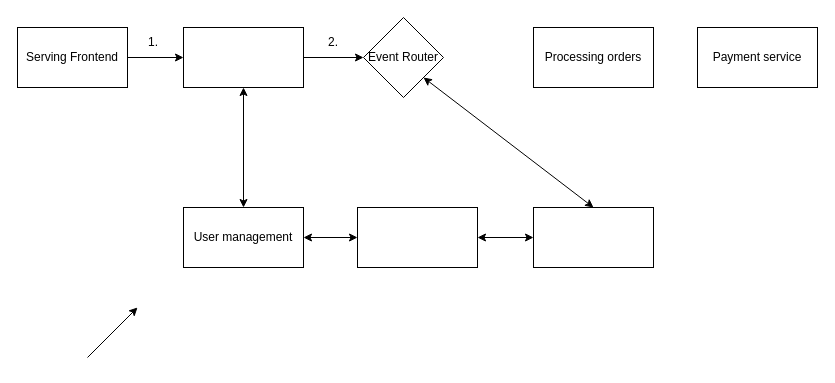
Some shapes in this 835 by 383 pixel diagram are drawn without their labels. The centre of each missing label's shape, as x and y in pixels:
"Backend services with api" goes at (593,237).
"Storing transient shopping cart data" goes at (417,237).
"User authorisation" goes at (243,57).
